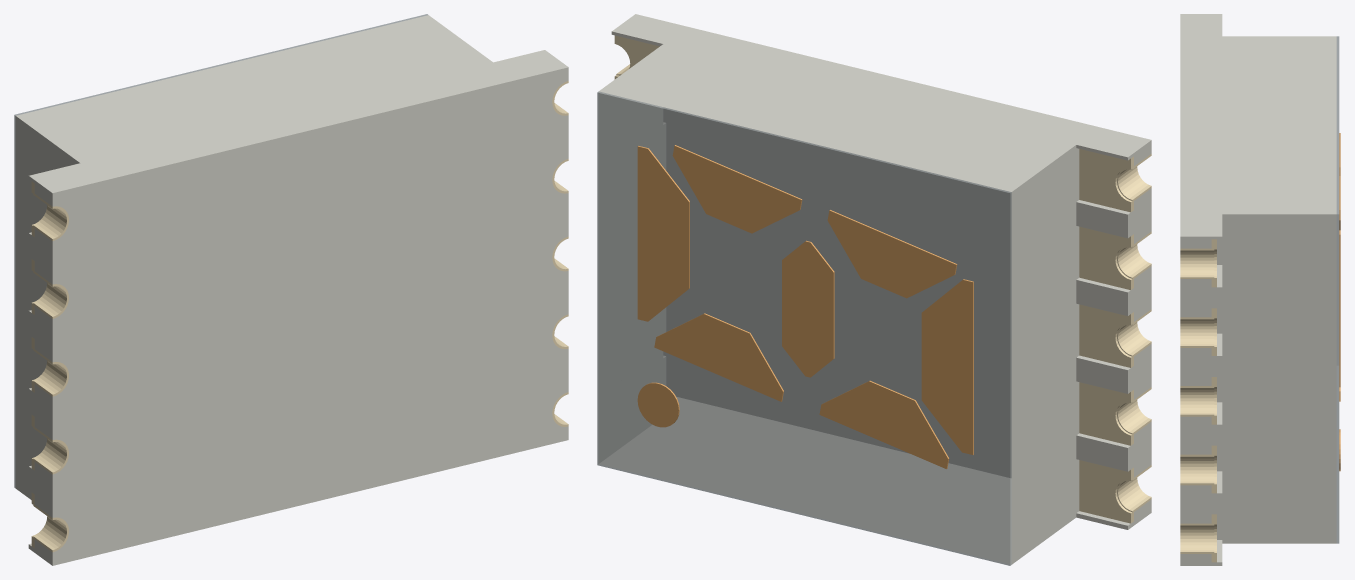
Rendered from KCSC02-106.glb.
3 renders of one model, left to right at view 1: azimuth 30°, elevation 25°; view 2: azimuth 150°, elevation 25°; view 3: azimuth 270°, elevation 25°, orthographic. The views are drawn at different scales.
Parts seen in each view (by area): view 1: Shape_IndexedFaceSet.017, Shape_IndexedFaceSet.002, Shape_IndexedFaceSet.001, Shape_IndexedFaceSet.087, Shape_IndexedFaceSet.032, Shape_IndexedFaceSet.036, Shape_IndexedFaceSet.044, Shape_IndexedFaceSet.040, Shape_IndexedFaceSet.006; view 2: Shape_IndexedFaceSet.087, Shape_IndexedFaceSet.017, Shape_IndexedFaceSet.002, Shape_IndexedFaceSet.005, Shape_IndexedFaceSet.001, Shape_IndexedFaceSet.019, Shape_IndexedFaceSet.284, Shape_IndexedFaceSet.280, Shape_IndexedFaceSet.282, Shape_IndexedFaceSet.277, Shape_IndexedFaceSet.283, Shape_IndexedFaceSet.281 (+21 smaller); view 3: Shape_IndexedFaceSet.002, Shape_IndexedFaceSet.019, Shape_IndexedFaceSet.070, Shape_IndexedFaceSet.068, Shape_IndexedFaceSet.064, Shape_IndexedFaceSet.066, Shape_IndexedFaceSet.072, Shape_IndexedFaceSet.049, Shape_IndexedFaceSet.053, Shape_IndexedFaceSet.055, Shape_IndexedFaceSet.051, Shape_IndexedFaceSet.063 (+18 smaller).
Boxes of the visible parts, bbox=[...] form: Shape_IndexedFaceSet.017: bbox=[52, 67, 568, 565]; Shape_IndexedFaceSet.002: bbox=[16, 15, 568, 193]; Shape_IndexedFaceSet.001: bbox=[15, 116, 79, 499]; Shape_IndexedFaceSet.087: bbox=[14, 14, 426, 486]; Shape_IndexedFaceSet.032: bbox=[28, 228, 52, 284]; Shape_IndexedFaceSet.036: bbox=[28, 306, 52, 361]; Shape_IndexedFaceSet.044: bbox=[28, 462, 52, 517]; Shape_IndexedFaceSet.040: bbox=[28, 384, 52, 439]; Shape_IndexedFaceSet.006: bbox=[14, 115, 15, 487]; Shape_IndexedFaceSet.087: bbox=[597, 93, 1010, 565]; Shape_IndexedFaceSet.017: bbox=[663, 107, 1011, 477]; Shape_IndexedFaceSet.002: bbox=[599, 14, 1151, 191]; Shape_IndexedFaceSet.005: bbox=[599, 397, 1011, 564]; Shape_IndexedFaceSet.001: bbox=[1011, 145, 1076, 564]; Shape_IndexedFaceSet.019: bbox=[599, 92, 662, 463]; Shape_IndexedFaceSet.284: bbox=[637, 146, 689, 321]; Shape_IndexedFaceSet.280: bbox=[921, 280, 972, 454]; Shape_IndexedFaceSet.282: bbox=[782, 241, 833, 377]; Shape_IndexedFaceSet.277: bbox=[654, 314, 782, 401]; Shape_IndexedFaceSet.283: bbox=[672, 145, 801, 233]; Shape_IndexedFaceSet.281: bbox=[827, 210, 956, 298]; Shape_IndexedFaceSet.002: bbox=[1180, 14, 1336, 236]; Shape_IndexedFaceSet.019: bbox=[1222, 214, 1336, 543]; Shape_IndexedFaceSet.070: bbox=[1222, 423, 1264, 471]; Shape_IndexedFaceSet.068: bbox=[1222, 354, 1264, 402]; Shape_IndexedFaceSet.064: bbox=[1222, 217, 1264, 264]; Shape_IndexedFaceSet.066: bbox=[1222, 286, 1264, 333]; Shape_IndexedFaceSet.072: bbox=[1222, 492, 1264, 539]; Shape_IndexedFaceSet.049: bbox=[1180, 279, 1222, 317]; Shape_IndexedFaceSet.053: bbox=[1180, 416, 1222, 454]; Shape_IndexedFaceSet.055: bbox=[1180, 485, 1222, 523]; Shape_IndexedFaceSet.051: bbox=[1180, 348, 1222, 385]; Shape_IndexedFaceSet.063: bbox=[1336, 214, 1338, 543].
Size of the model in its own units: 3.94 by 2.72 by 1.2.
